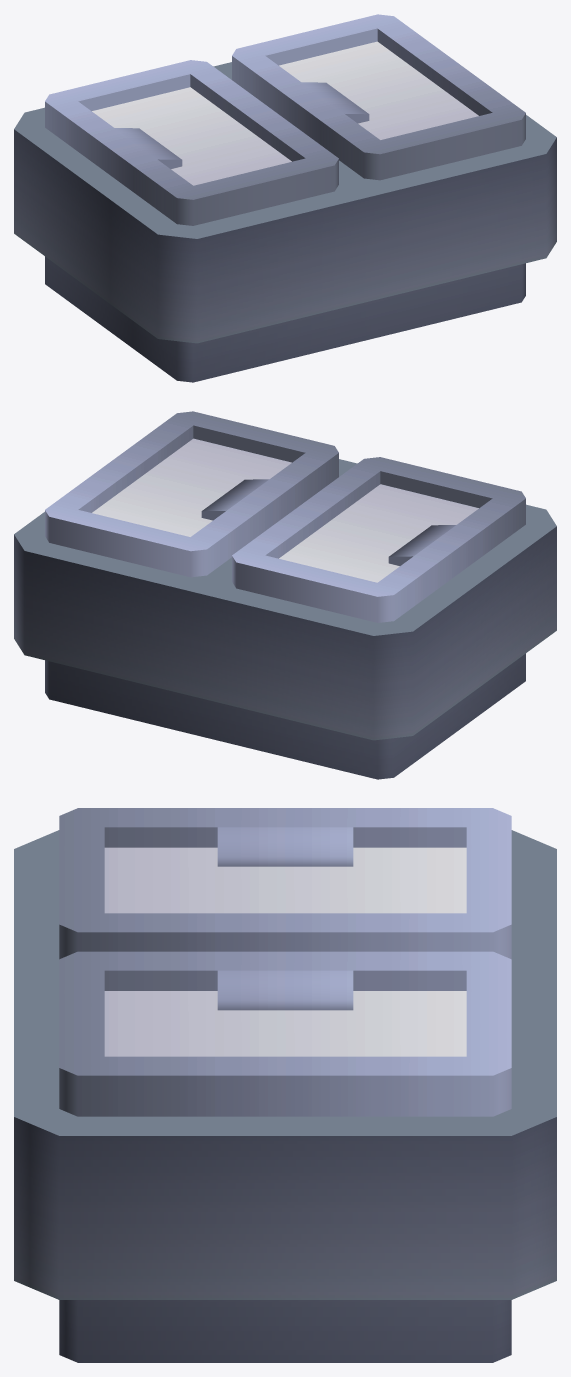
Rendered from market.freezer.glb.
3 renders of one model, top to bottom at view 1: azimuth 30°, elevation 25°; view 2: azimuth 150°, elevation 25°; view 3: azimuth 270°, elevation 25°, orthographic. The views are drawn at different scales.
Visible parts, largest first — view 1: freezer; view 2: freezer; view 3: freezer.
Boxes of the visible parts, bbox=[...] form: freezer: bbox=[14, 14, 556, 382]; freezer: bbox=[14, 411, 556, 779]; freezer: bbox=[14, 808, 556, 1362].
Bounding box in the file's own units: 2.05 × 0.8952 × 1.53.
Materials: 1 (1 with a texture image).
